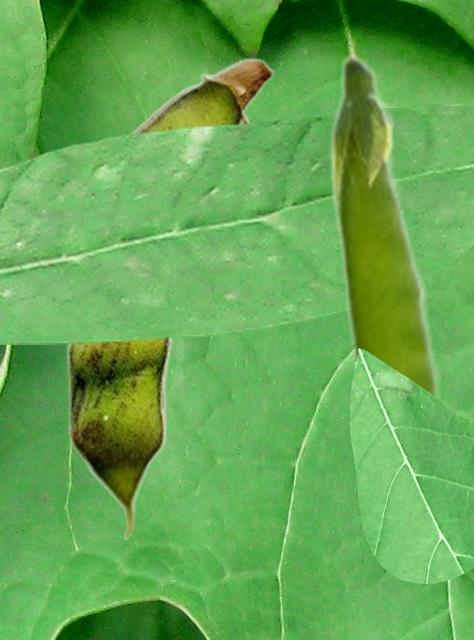pea: (67, 56, 274, 540), (328, 52, 446, 403)
